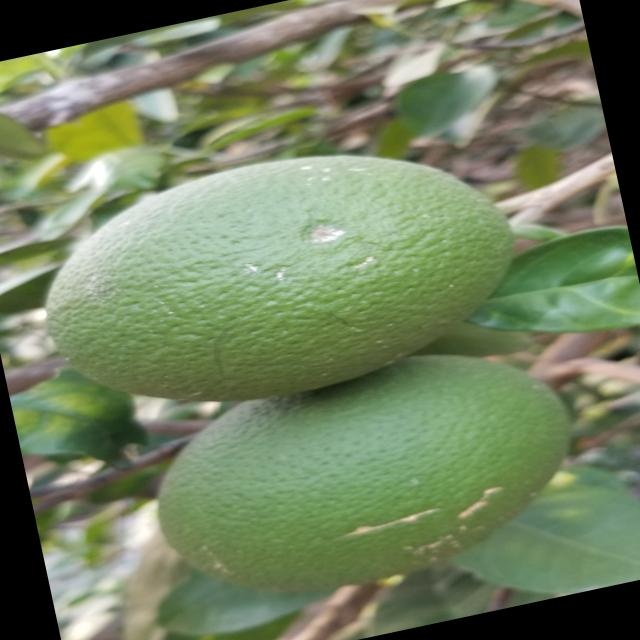agrume: (16, 106, 559, 450), (131, 331, 589, 621)
